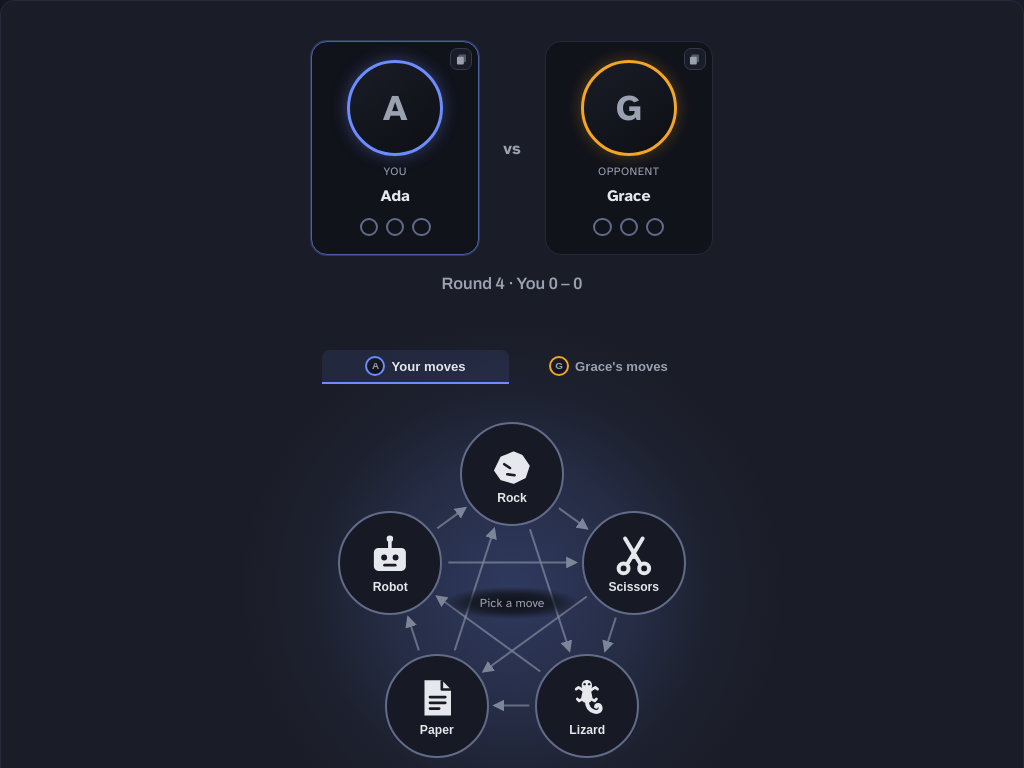
Scenario: <Board> loadouts (JQ-149) › keeps the loadouts reachable from either seat card once the reveal is over
The width and height of the screenshot is (1024, 768).
Click the button named "Grace's loadout: Chimera, Poker Face": (629, 148) [546, 42, 712, 254]
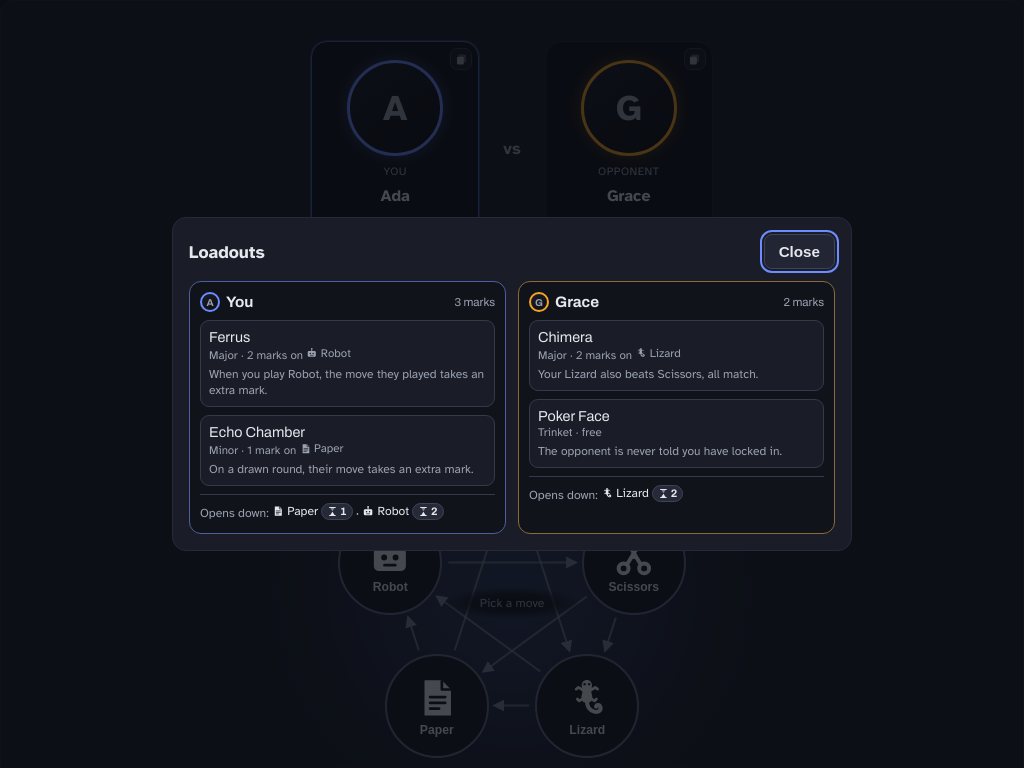
Expected: the text "Chimera" is shown, [538, 329, 593, 345]
Expected: the text "Ferrus" is shown, [209, 329, 250, 345]
